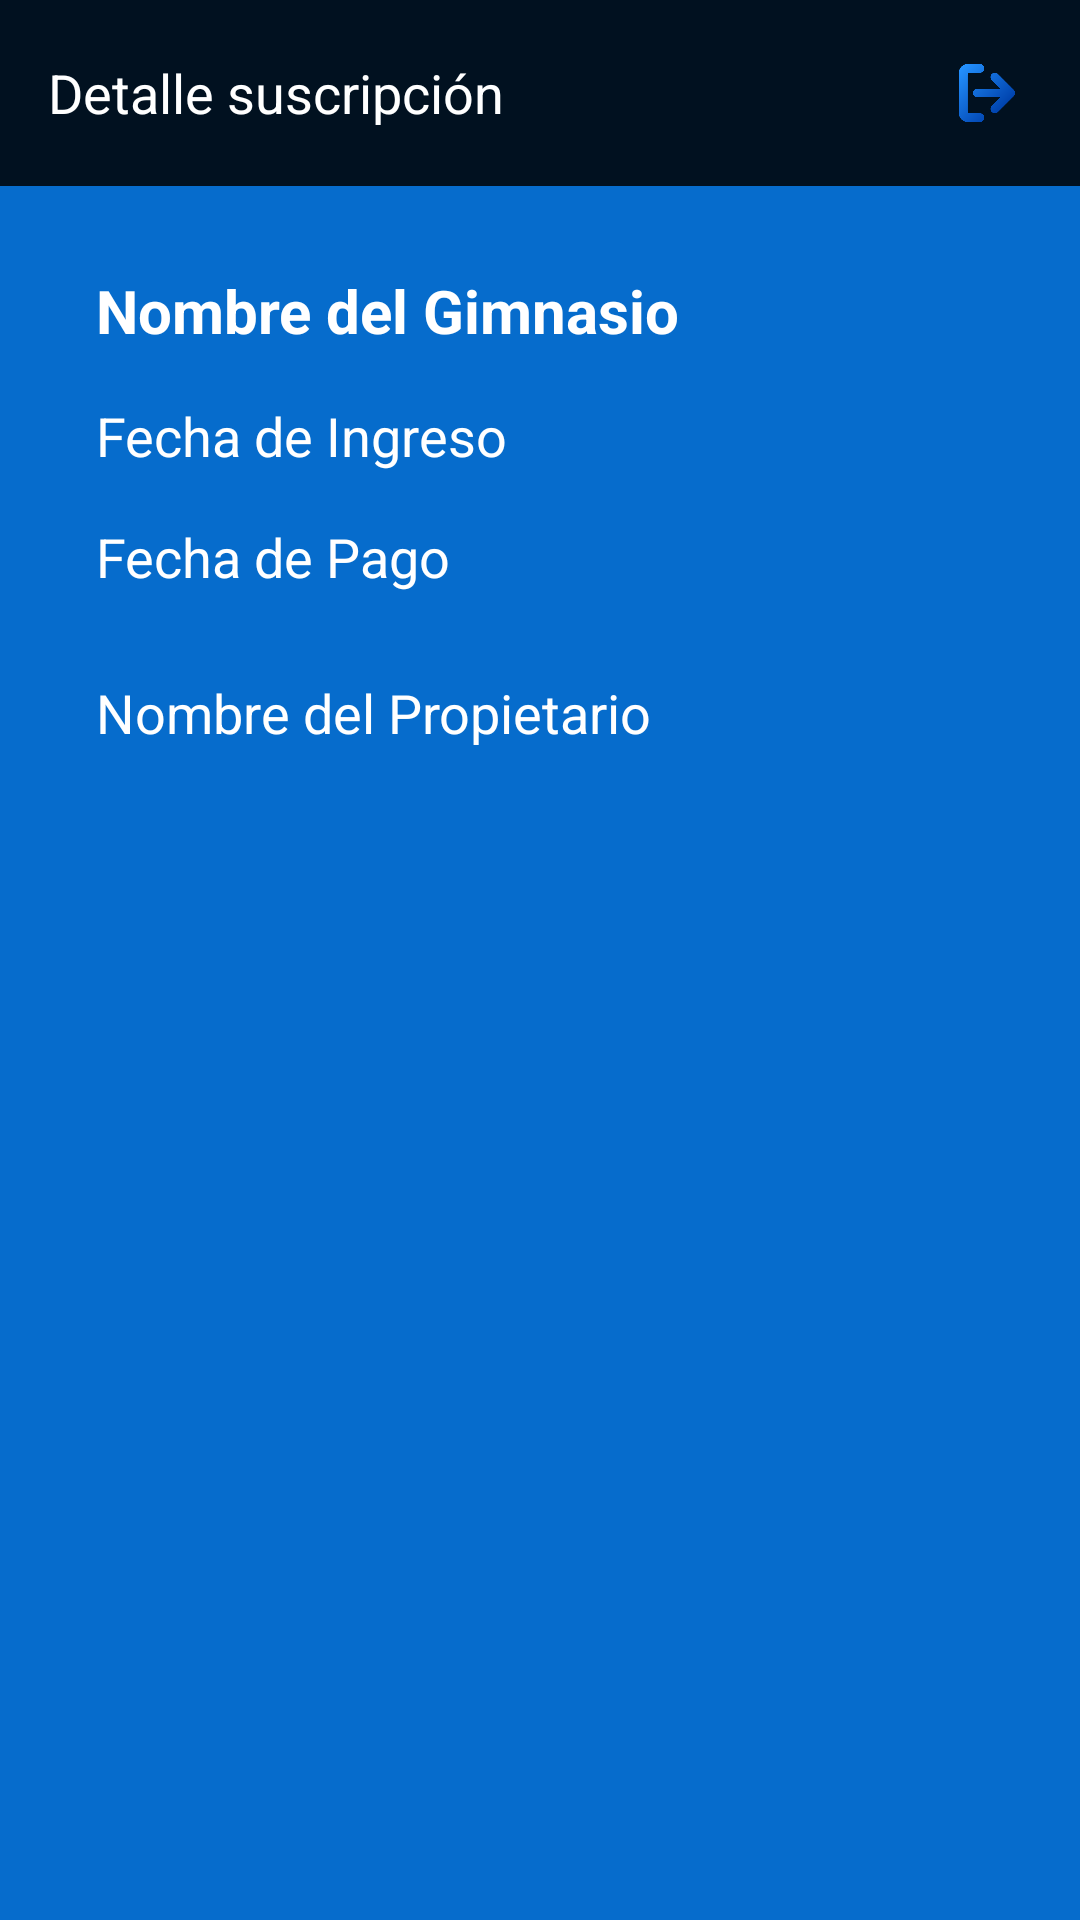

Locate icon controls on the screen. Image size 1080w x 1920h, boxes as (x1,y1,x2,y2).
cerrar: (959,64,1015,122)
